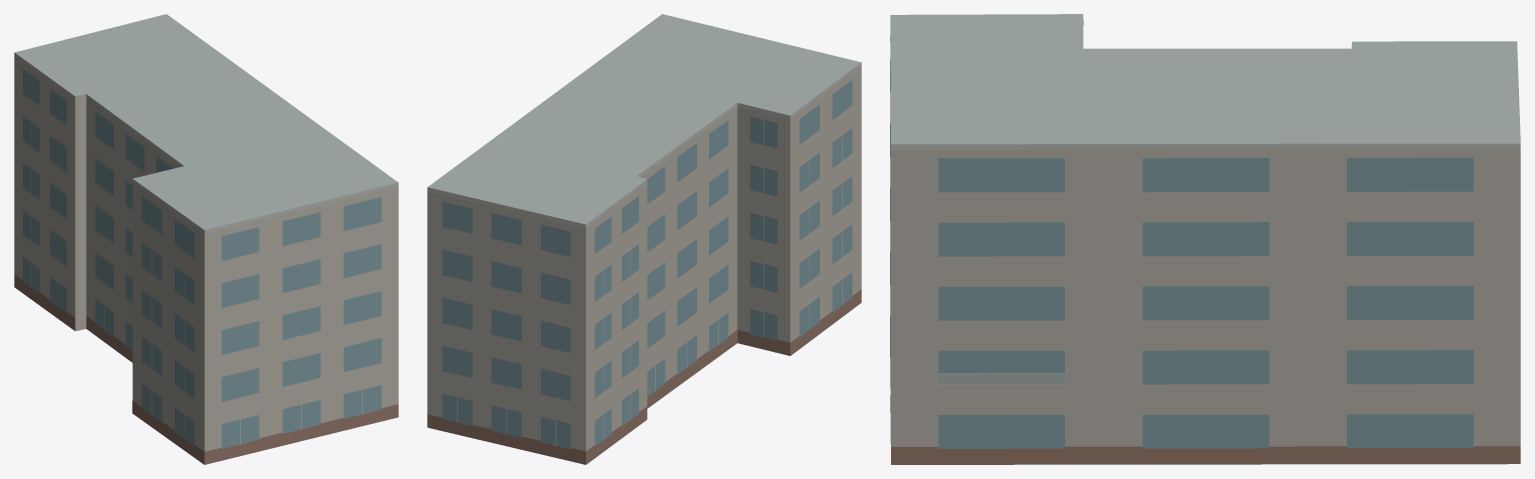
The model's file is survey-upis-32550706.glb.
3 renders of one model, left to right at view 1: azimuth 30°, elevation 25°; view 2: azimuth 150°, elevation 25°; view 3: azimuth 270°, elevation 25°, orthographic. The views are drawn at different scales.
Parts seen in each view (by area): view 1: survey-upis-32550706.tmp; view 2: survey-upis-32550706.tmp; view 3: survey-upis-32550706.tmp.
Boxes of the visible parts, box(x1,y1,x2,y2) form: survey-upis-32550706.tmp: box(14, 14, 398, 464); survey-upis-32550706.tmp: box(427, 14, 861, 464); survey-upis-32550706.tmp: box(890, 14, 1520, 464).
Size of the model in its own units: 12.81 by 14.65 by 26.13.
